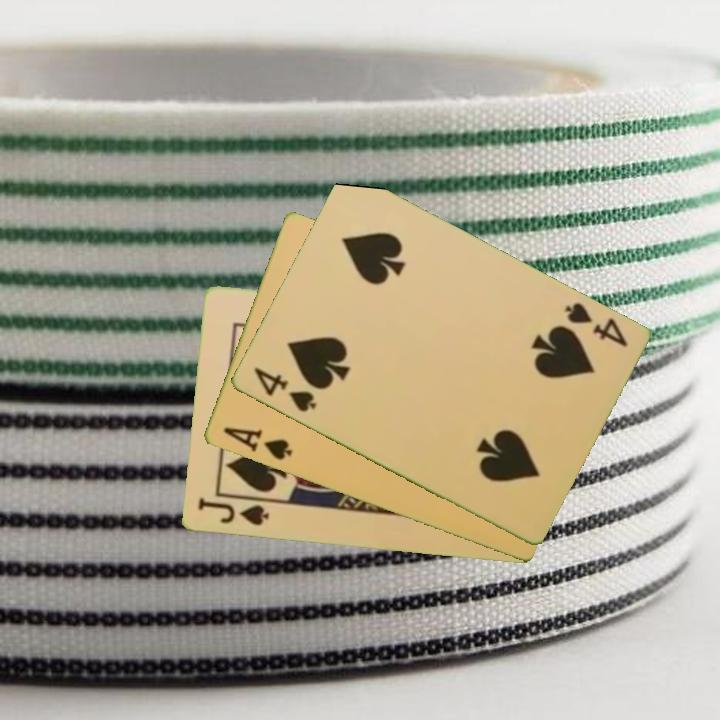4s: (249, 364, 319, 416), (560, 299, 630, 350)
As: (219, 424, 295, 464)
Js: (194, 494, 272, 529)
